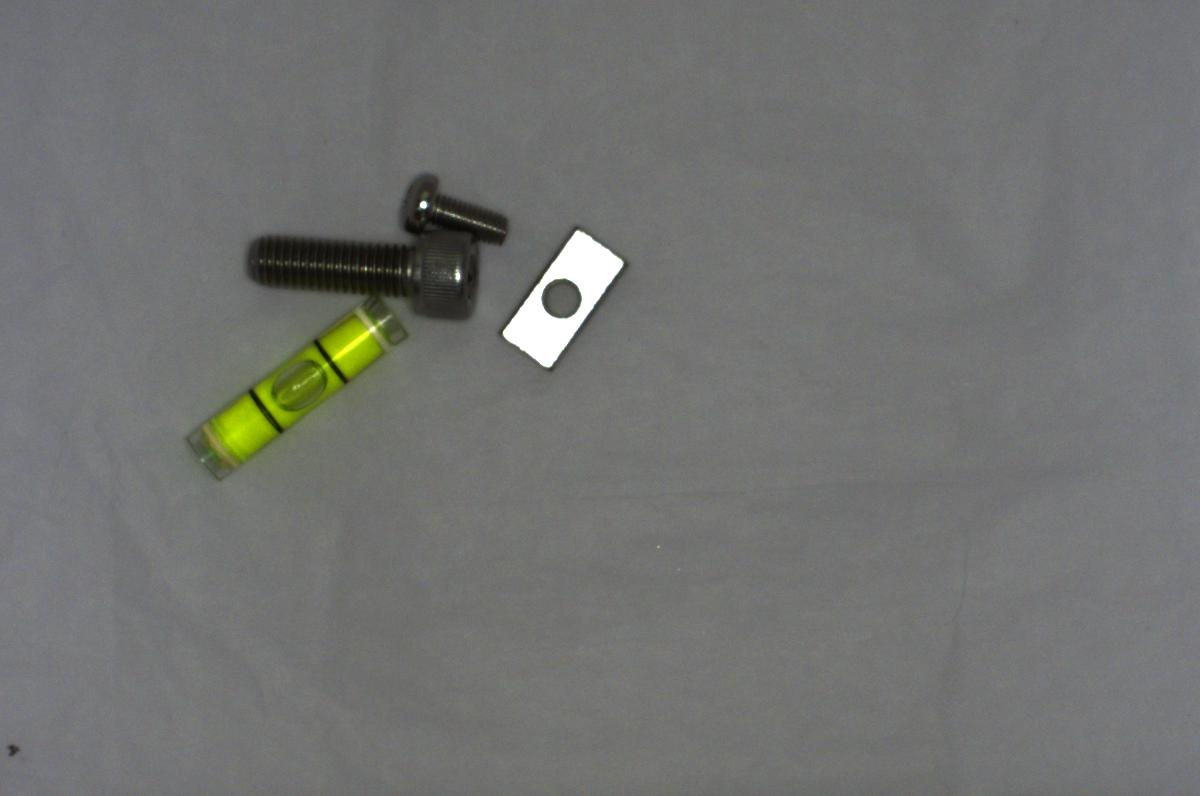Hexagon screw: (247, 220, 479, 312)
Horizontal bubble: (181, 299, 404, 479)
Rectangular nut: (492, 225, 633, 366)
Round head screw: (395, 163, 502, 243)
